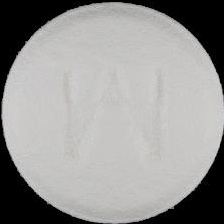55154-5673: (0, 0, 224, 224)
